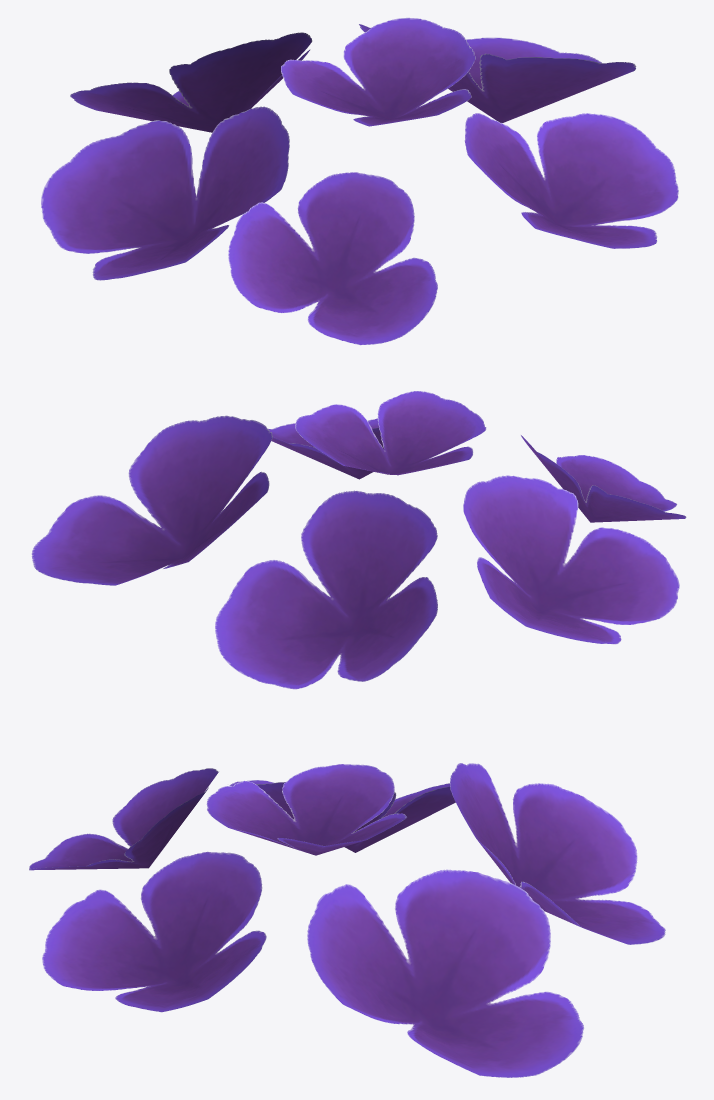
The model's file is Plant_7.glb.
3 renders of one model, top to bottom at view 1: azimuth 30°, elevation 25°; view 2: azimuth 150°, elevation 25°; view 3: azimuth 270°, elevation 25°, orthographic. The views are drawn at different scales.
Visible parts, largest first — view 1: Plant_7; view 2: Plant_7; view 3: Plant_7.
Boxes of the visible parts, x1=… form: Plant_7: x1=41, y1=17, x2=678, y2=345; Plant_7: x1=31, y1=391, x2=686, y2=689; Plant_7: x1=29, y1=763, x2=665, y2=1077.
Size of the model in its own units: 1.05 by 0.2495 by 0.9621.
Materials: 1 (1 with a texture image).
